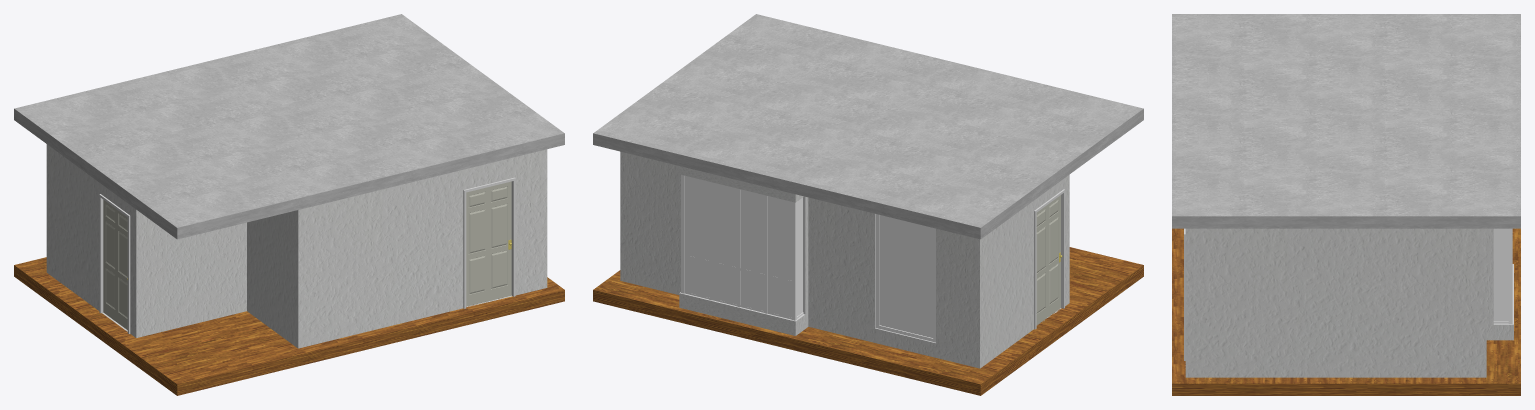
File: FloorPlan211_physics.fbx
3 renders of one model, left to right at view 1: azimuth 30°, elevation 25°; view 2: azimuth 150°, elevation 25°; view 3: azimuth 270°, elevation 25°, orthographic. The views are drawn at different scales.
Visible parts, largest first — view 1: FP211:Ceiling, FP211:StandardWallSize, FP211:Floor, FP211:StandardDoor1 (×2), FP211:StandardDoorFrame1 (×2); view 2: FP211:Ceiling, FP211:StandardWallSize, FP211:Floor, FP211:polySurface1, FP211:polySurface2, FP211:polySurface5, FP211:StandardDoor1, FP211:polySurface4, FP211:StandardDoorFrame1; view 3: FP211:Ceiling, FP211:StandardWallSize, FP211:Floor, FP211:polySurface1, FP211:polySurface5.
Boxes of the visible parts, x1,y1,x2,y2 form: FP211:Ceiling: (14,14,564,239); FP211:StandardWallSize: (46,144,547,348); FP211:Floor: (14,257,564,395); FP211:StandardDoor1 (×2): (103,181,511,329); FP211:StandardDoorFrame1 (×2): (99,177,515,333); FP211:Ceiling: (593,14,1143,239); FP211:StandardWallSize: (620,151,1069,368); FP211:Floor: (593,247,1143,395); FP211:polySurface1: (684,176,802,317); FP211:polySurface2: (879,215,933,337); FP211:polySurface5: (681,175,803,320); FP211:StandardDoor1: (1036,195,1060,325); FP211:polySurface4: (875,214,935,342); FP211:StandardDoorFrame1: (1034,189,1064,329); FP211:Ceiling: (1172,14,1520,228); FP211:StandardWallSize: (1185,228,1513,377); FP211:Floor: (1172,228,1520,395); FP211:polySurface1: (1493,228,1508,321); FP211:polySurface5: (1493,228,1512,323).
Size of the model in its own units: 700 by 290 by 510.
